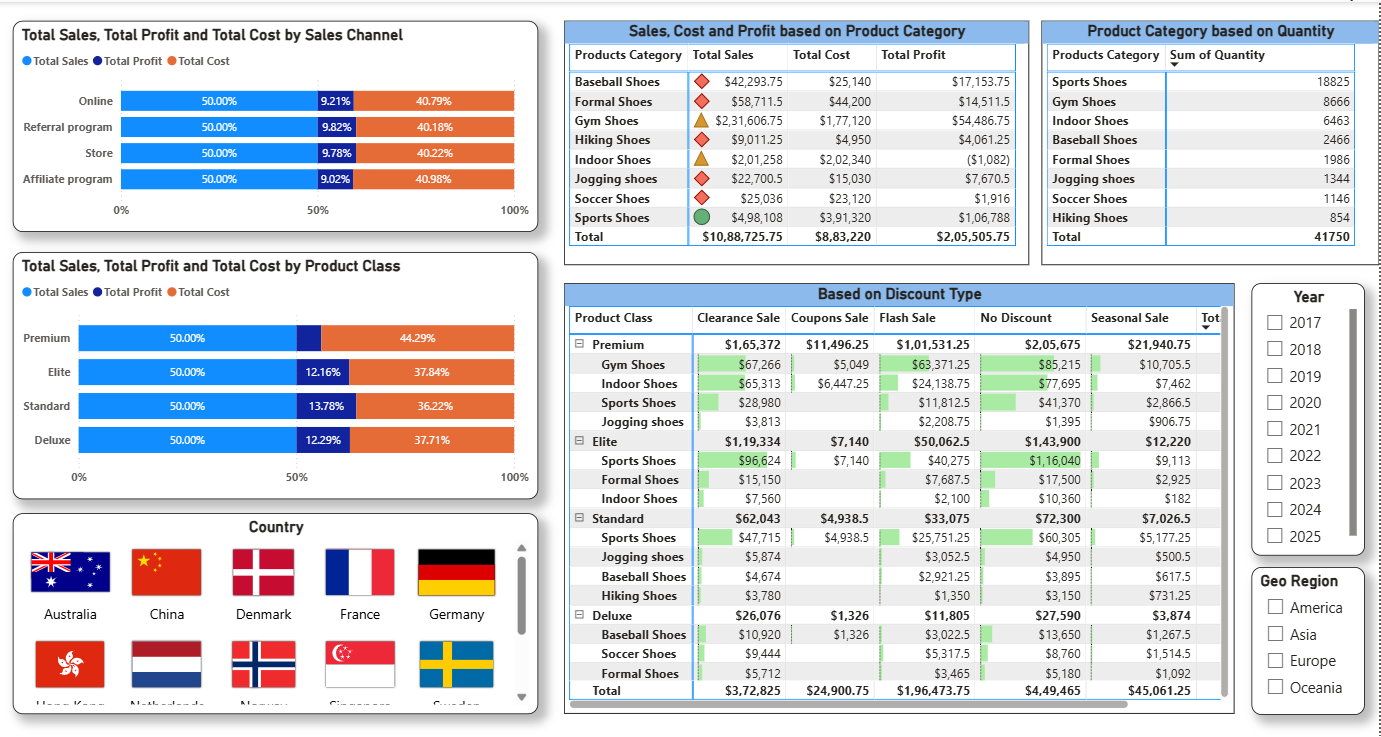

The dashboard page shown, as its layout file describes it:
{"tool":"powerbi","page":{"name":"Sales, Cost, Profit Overview by Category & Region","canvas":[1500,800],"ordinal":2},"visuals":[{"type":"hundredPercentStackedBarChart","fields":{"Y":["ALL Measures.Total Sales","ALL Measures.Total Profit","ALL Measures.Total Cost"],"Category":["Sales Data.Sales Channel"]},"box":[15.2,20.3,571.5,229.9],"z":0},{"type":"hundredPercentStackedBarChart","fields":{"Y":["ALL Measures.Total Sales","ALL Measures.Total Profit","ALL Measures.Total Cost"],"Category":["Sales Data.Product Class"]},"box":[15.2,272.2,571.5,268.8],"z":1000},{"type":"pivotTable","title":"Sales, Cost and Profit based on Product Category","fields":{"Values":["ALL Measures.Total Sales","ALL Measures.Total Cost","ALL Measures.Total Profit"],"Rows":["Products Details.Products Category"]},"box":[613.7,20.3,505.5,265.4],"z":2000},{"type":"pivotTable","title":"Product Category based on Quantity","fields":{"Rows":["Products Details.Products Category"],"Values":["Sum(Sales Data.Quantity)"]},"box":[1132.8,20.3,366.9,265.4],"z":3000},{"type":"pivotTable","title":"Based on Discount Type","fields":{"Rows":["Sales Data.Product Class","Sales Data.Product Category"],"Values":["ALL Measures.Total Sales"],"Columns":["Discount Details.Discount Type"]},"box":[613.7,306,728.7,468.3],"z":4000},{"type":"slicer","title":"Year","fields":{"Values":["Calendar Table.Year"]},"box":[1361,306,123.4,295.9],"z":5000},{"type":"slicer","title":"Geo Region","fields":{"Values":["Sales Data.Geographic Region"]},"box":[1361,613.7,123.4,160.6],"z":6000},{"type":"enlightenWorldFlagsE887F52F76244B1C927F80CF9724AEF6","fields":{"code":["Sales Data.Country"]},"box":[15.2,556.3,571.5,218.1],"z":7000}]}

Visuals, with their boxes in screenshot pixels (x1, y1, x2, y2), scaled from the page's 1500x800 canvas onto the 1381x737 screenshot:
hundredPercentStackedBarChart - ALL Measures.Total Sales x ALL Measures.Total Profit: (x1=14, y1=19, x2=540, y2=230)
hundredPercentStackedBarChart - ALL Measures.Total Sales x ALL Measures.Total Profit: (x1=14, y1=251, x2=540, y2=498)
"Sales, Cost and Profit based on Product Category" pivotTable: (x1=565, y1=19, x2=1030, y2=263)
"Product Category based on Quantity" pivotTable: (x1=1043, y1=19, x2=1380, y2=263)
"Based on Discount Type" pivotTable: (x1=565, y1=282, x2=1236, y2=713)
"Year" slicer: (x1=1253, y1=282, x2=1367, y2=555)
"Geo Region" slicer: (x1=1253, y1=565, x2=1367, y2=713)
enlightenWorldFlagsE887F52F76244B1C927F80CF9724AEF6 - Sales Data.Country: (x1=14, y1=512, x2=540, y2=713)
